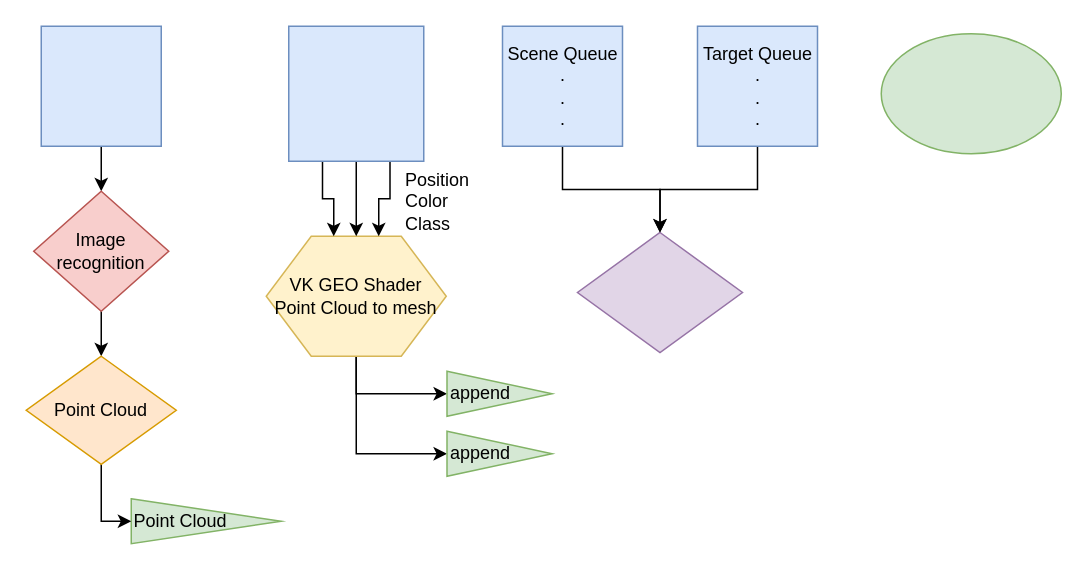
This 1088x570 diagram has some shape labels left out. Here are the shapes that lost their labels. From the top down, the centre of each, then its label:
At (x=100, y=85): "PrimeSense".
At (x=355, y=93): "Point Cloud Queue . . .".
At (x=970, y=93): "Send path When requested".
At (x=659, y=291): "Edit Path".
